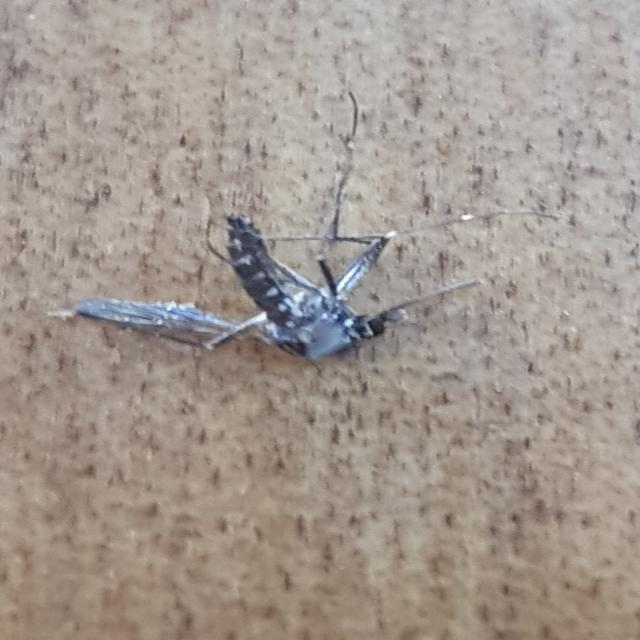albopictus: (85, 161, 505, 377)
